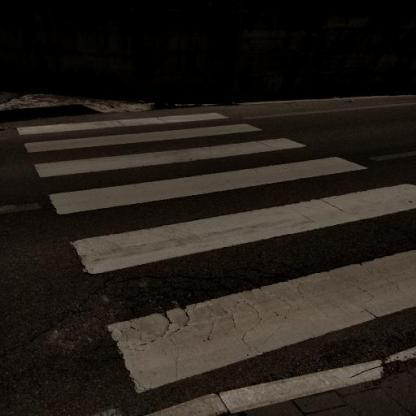crosswalk: (29, 133, 372, 227)
